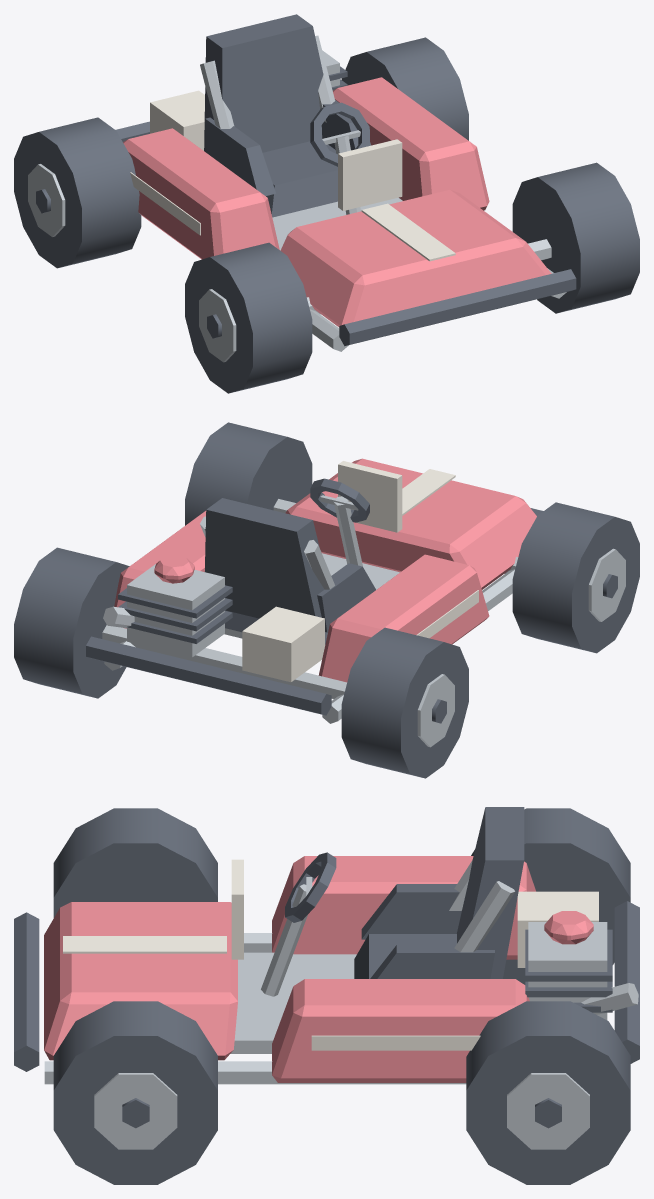
Rendered from go_kart.glb.
The picture shows the model from 3 angles, top to bottom: view 1: azimuth 30°, elevation 25°; view 2: azimuth 150°, elevation 25°; view 3: azimuth 270°, elevation 25°; orthographic projection. The views are drawn at different scales.
Visible parts, largest first — view 1: go_kart_black.001, go_kart_red.001, go_kart_white.001, go_kart_gray.001; view 2: go_kart_black.001, go_kart_red.001, go_kart_gray.001, go_kart_white.001; view 3: go_kart_black.001, go_kart_red.001, go_kart_gray.001, go_kart_white.001.
Part boxes in pixels (x1,y1,x2,y2): go_kart_black.001: (14,14,639,393); go_kart_red.001: (123,77,551,327); go_kart_white.001: (130,90,455,261); go_kart_gray.001: (28,35,566,362); go_kart_black.001: (14,422,639,778); go_kart_red.001: (114,458,536,682); go_kart_gray.001: (102,495,625,747); go_kart_white.001: (242,461,478,682); go_kart_black.001: (14,807,639,1184); go_kart_red.001: (44,856,593,1082); go_kart_gray.001: (44,860,638,1149); go_kart_white.001: (63,859,598,1050).
Size of the model in its own units: 4.59 by 2.16 by 5.16.
